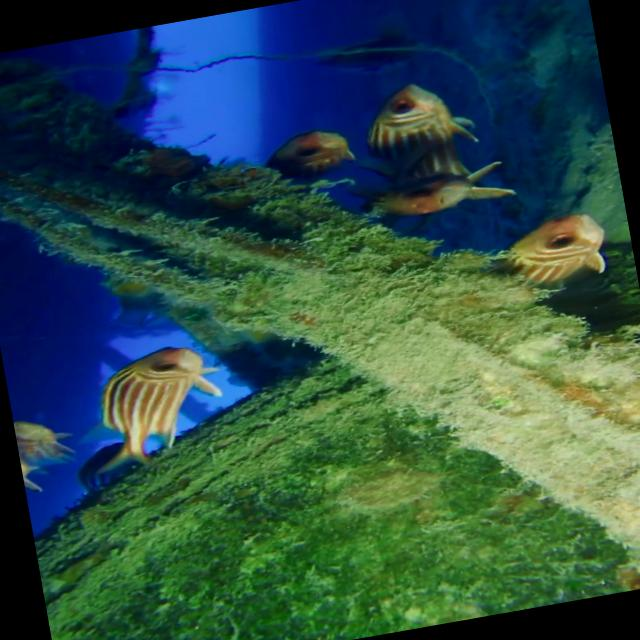Asker Baligi: (55, 336, 238, 495), (358, 68, 490, 218)
